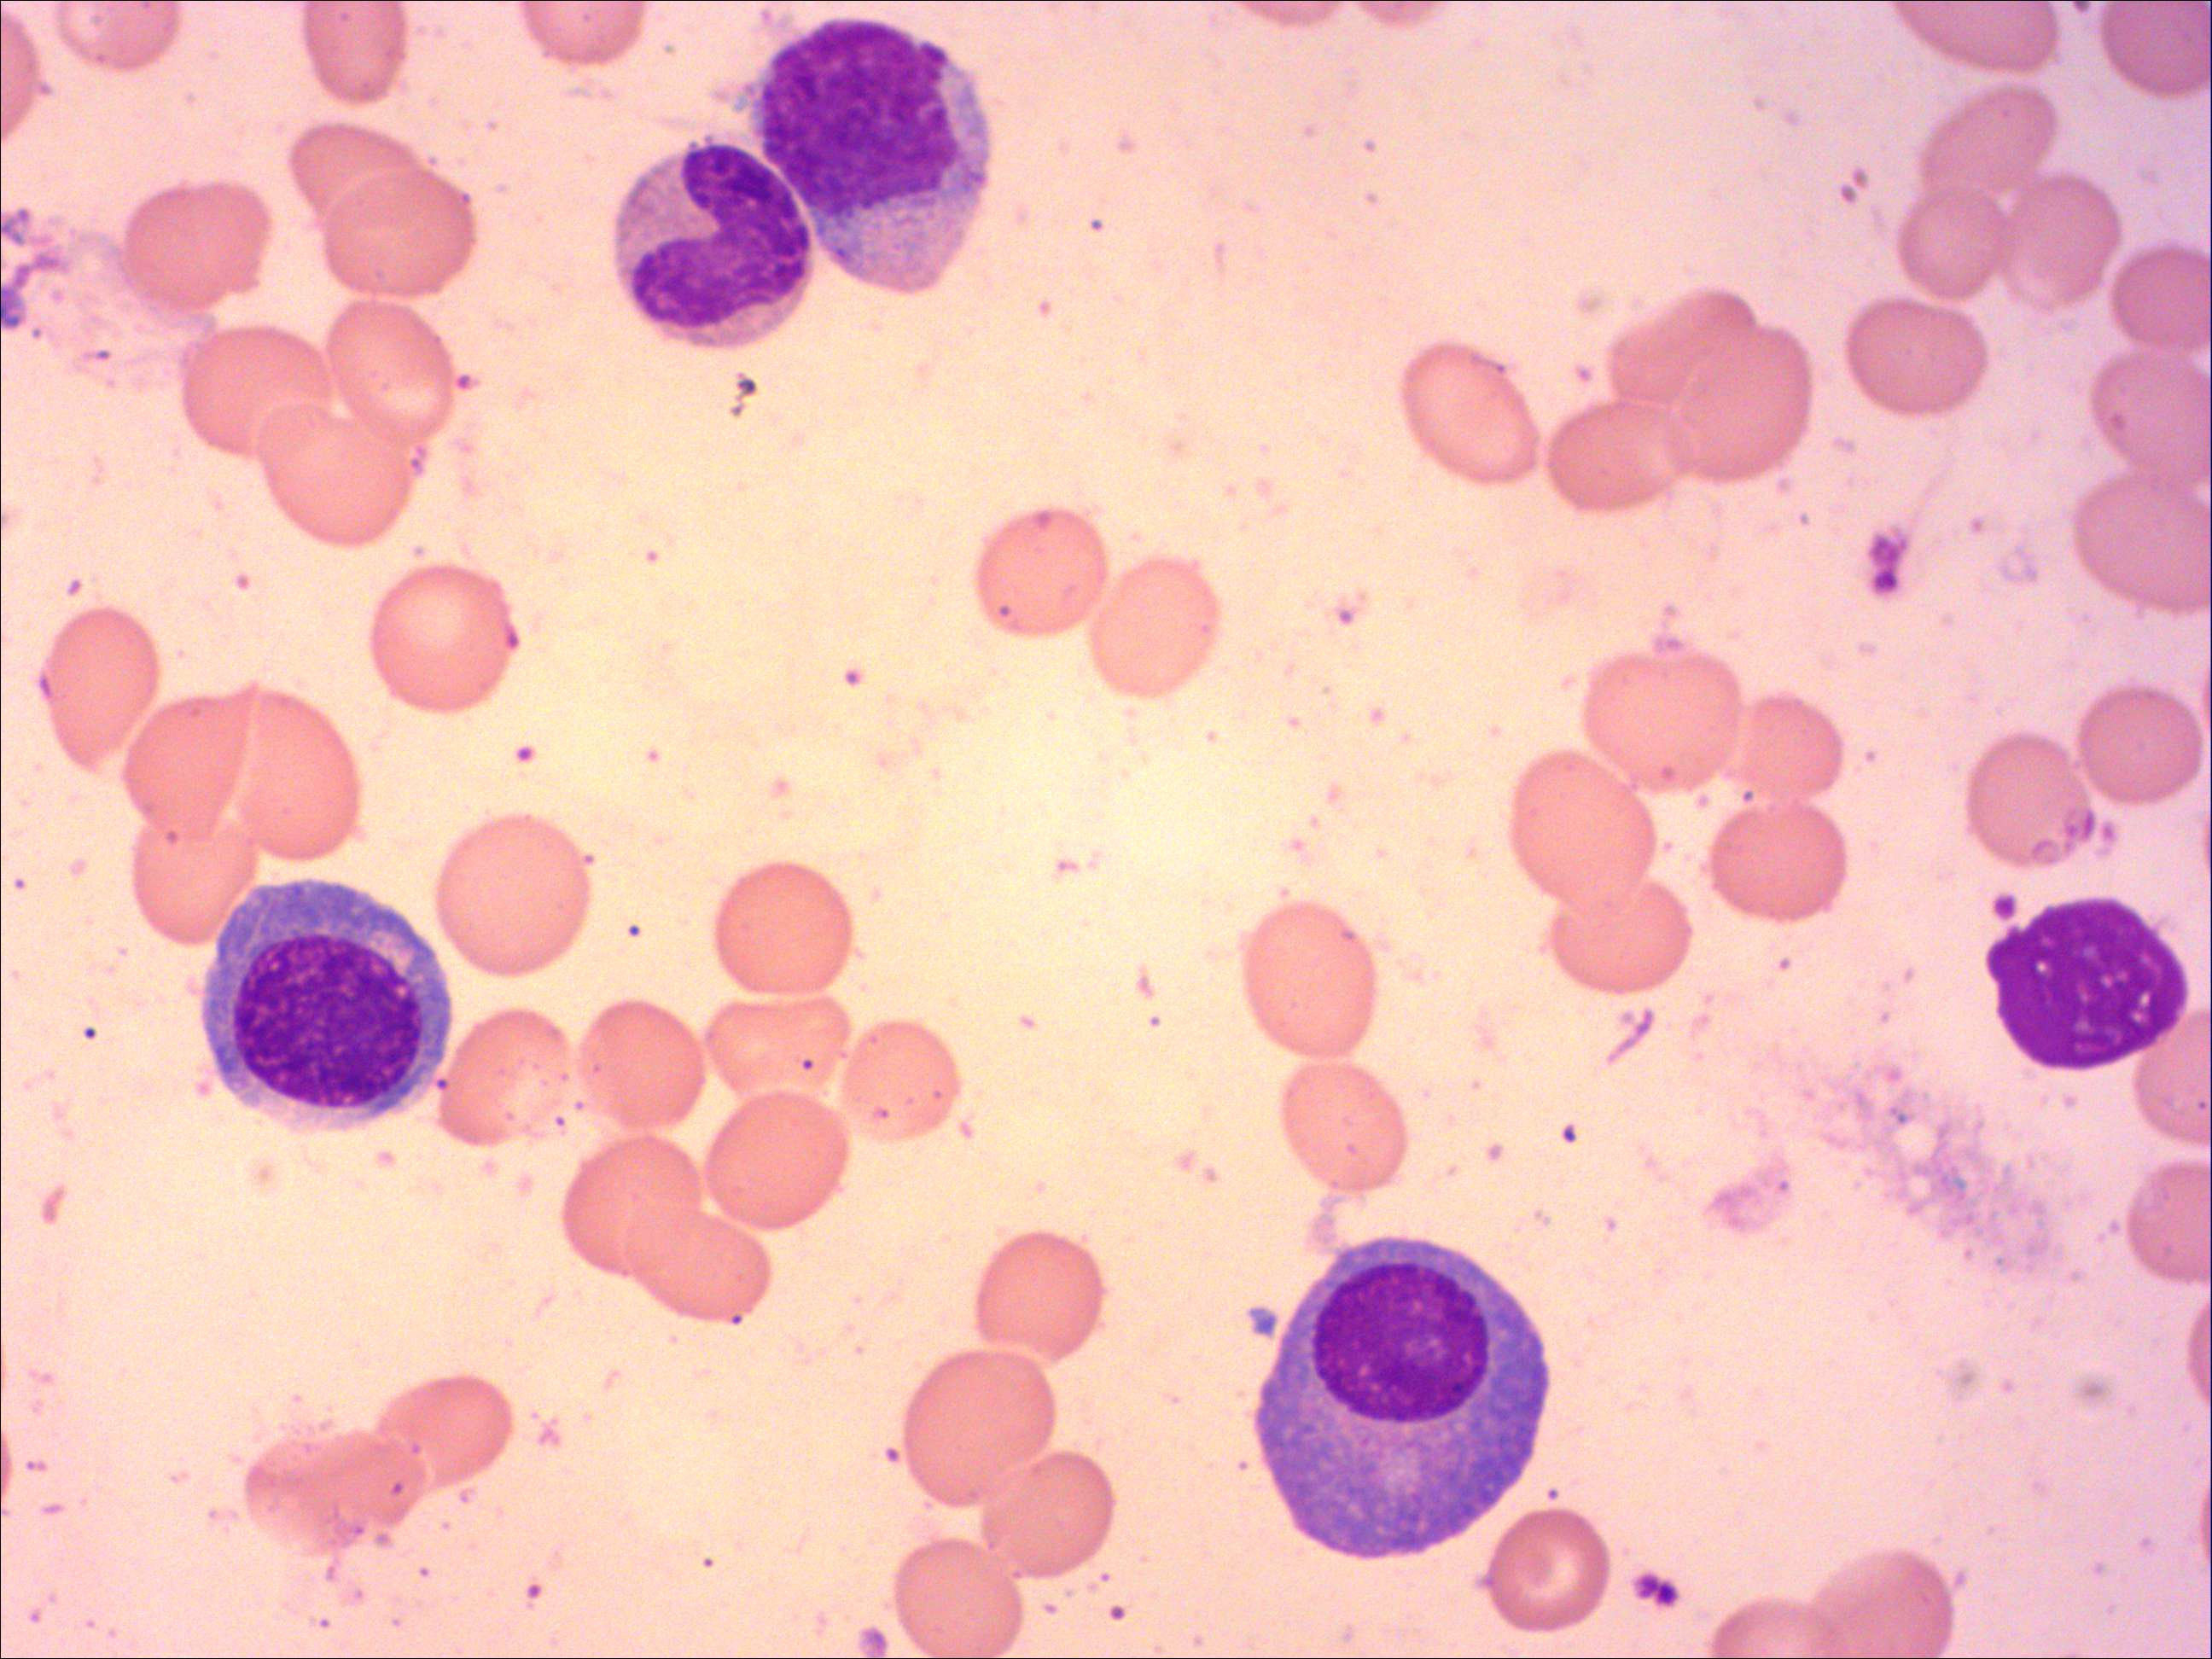42: (749, 16, 996, 301)
5: (608, 139, 820, 357)
51: (1249, 1232, 1552, 1565), (195, 875, 456, 1141)
x: (1982, 894, 2191, 1077)
